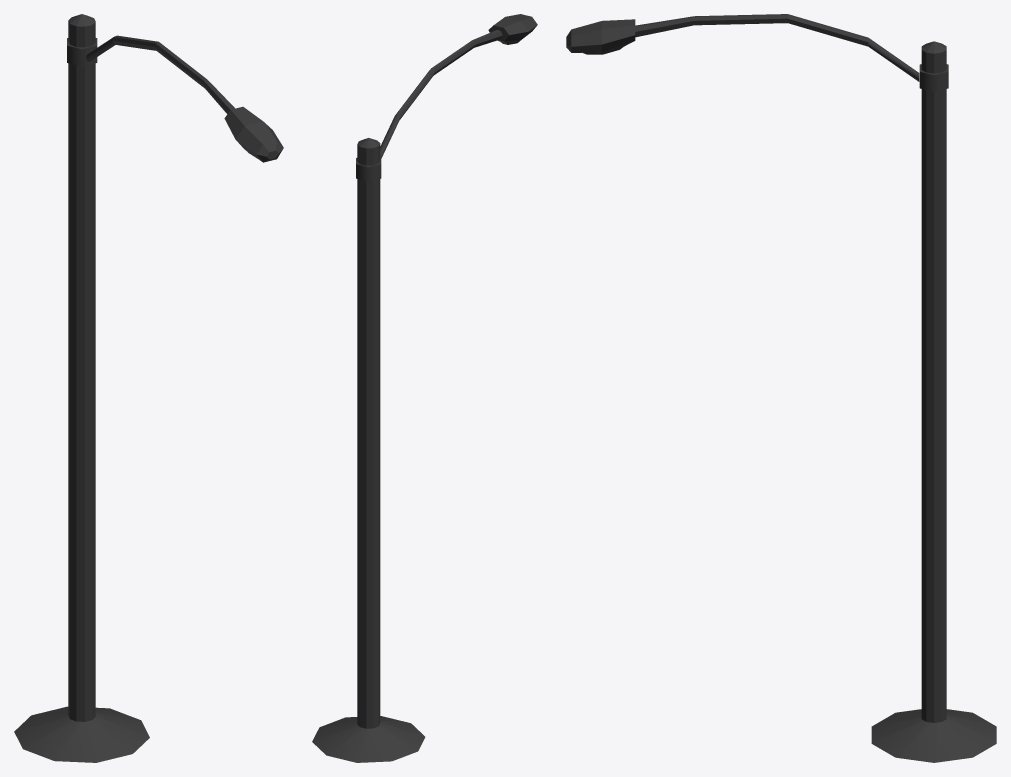
The model's file is street_light.FBX.
The picture shows the model from 3 angles, left to right: view 1: azimuth 30°, elevation 25°; view 2: azimuth 150°, elevation 25°; view 3: azimuth 270°, elevation 25°; orthographic projection. The views are drawn at different scales.
Visible parts, largest first — view 1: Cylinder001; view 2: Cylinder001; view 3: Cylinder001.
Boxes of the visible parts, x1=… form: Cylinder001: x1=14, y1=14, x2=283, y2=762; Cylinder001: x1=312, y1=14, x2=537, y2=762; Cylinder001: x1=566, y1=14, x2=996, y2=762.
Size of the model in its own units: 15.59 by 94.21 by 51.01.
Materials: 1 (1 with a texture image).
